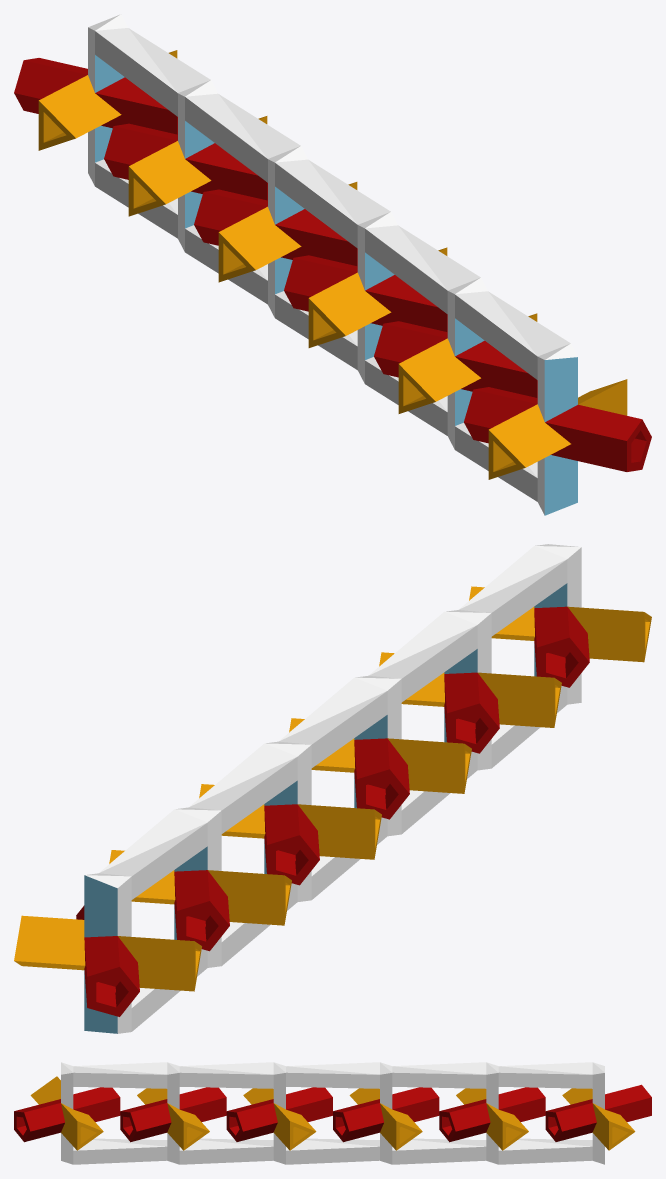
Rendered from red-yellow-cross-bob-6-gang-THICKER.dae.
The picture shows the model from 3 angles, top to bottom: view 1: azimuth 30°, elevation 25°; view 2: azimuth 150°, elevation 25°; view 3: azimuth 270°, elevation 25°; orthographic projection. The views are drawn at different scales.
Parts seen in each view (by area): view 1: instance72, instance682, instance105, instance592, instance346, instance480, instance657, instance672, instance61, instance145, instance338, instance321 (+36 smaller); view 2: instance574, instance165, instance429, instance680, instance365, instance352, instance239, instance657, instance61, instance338, instance145, instance672 (+35 smaller); view 3: instance178, instance323, instance337, instance403, instance536, instance644, instance314, instance636, instance263, instance372, instance95, instance542 (+90 smaller).
Part boxes in pixels (x1,y1,x2,y2): instance72: (39, 93, 121, 138); instance682: (219, 225, 301, 269); instance105: (129, 159, 211, 203); instance592: (309, 290, 391, 335); instance346: (399, 356, 480, 401); instance480: (489, 422, 570, 467); instance657: (365, 229, 447, 313); instance672: (185, 97, 267, 182); instance61: (455, 294, 537, 379); instance145: (95, 31, 177, 116); instance338: (275, 163, 357, 248); instance321: (545, 404, 641, 440); instance574: (14, 916, 85, 965); instance165: (568, 606, 644, 661); instance429: (388, 738, 464, 793); instance680: (478, 672, 554, 727); instance365: (298, 804, 374, 859); instance352: (208, 870, 284, 925); instance239: (118, 936, 194, 991); instance657: (401, 625, 477, 702); instance61: (491, 559, 567, 636); instance338: (311, 691, 387, 767); instance145: (131, 823, 207, 899); instance672: (221, 757, 297, 833); instance178: (498, 1146, 592, 1164); instance323: (179, 1146, 273, 1164); instance337: (392, 1146, 486, 1164); instance403: (73, 1146, 167, 1164); instance536: (73, 1072, 167, 1088); instance644: (392, 1072, 486, 1088); instance314: (179, 1072, 273, 1088); instance636: (498, 1072, 592, 1088); instance263: (286, 1072, 379, 1088); instance372: (286, 1146, 379, 1164); instance95: (449, 1103, 490, 1131); instance542: (130, 1103, 171, 1131).
Size of the model in its own units: 2 by 1.91 by 12.
